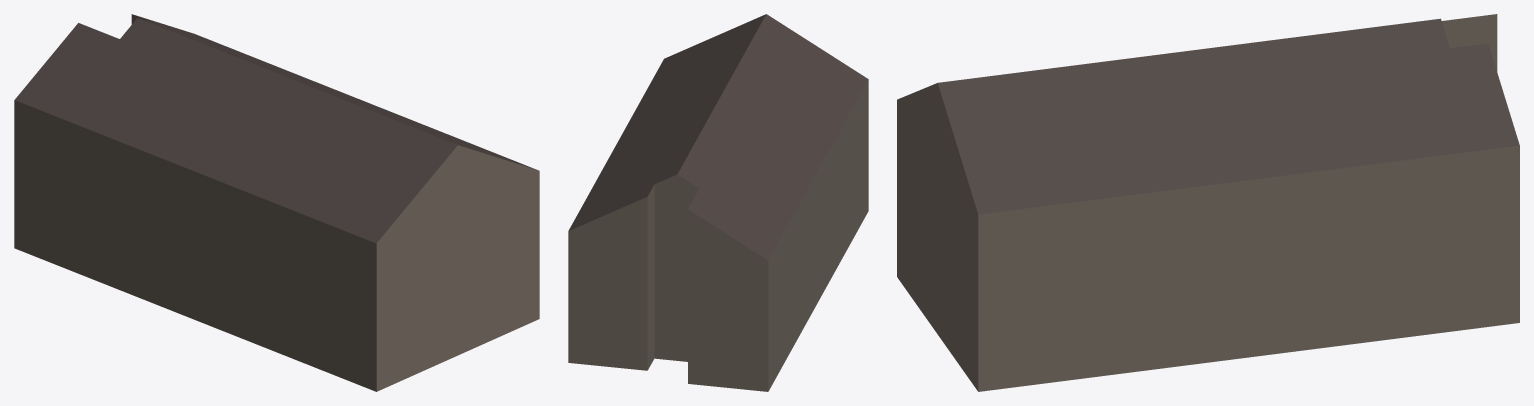
3 renders of one model, left to right at view 1: azimuth 30°, elevation 25°; view 2: azimuth 150°, elevation 25°; view 3: azimuth 270°, elevation 25°, orthographic. The views are drawn at different scales.
Parts seen in each view (by area): view 1: HP-w1315285273; view 2: HP-w1315285273; view 3: HP-w1315285273.
Boxes of the visible parts, x1,y1,x2,y2 form: HP-w1315285273: [14, 14, 539, 391]; HP-w1315285273: [568, 14, 868, 391]; HP-w1315285273: [897, 14, 1519, 391].
Size of the model in its own units: 20.41 by 12.77 by 28.65.
